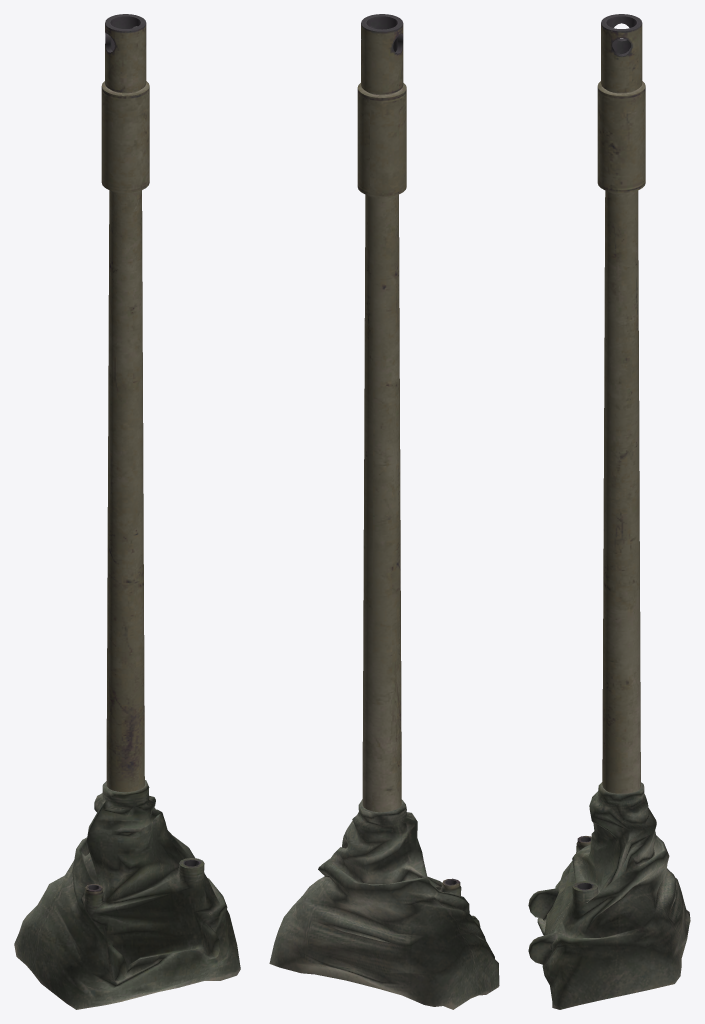
File: Gun_05.glb
3 renders of one model, left to right at view 1: azimuth 30°, elevation 25°; view 2: azimuth 150°, elevation 25°; view 3: azimuth 270°, elevation 25°, orthographic. The views are drawn at different scales.
Visible parts, largest first — view 1: set_0_group_0; view 2: set_0_group_0; view 3: set_0_group_0.
Part boxes in pixels (<box>): set_0_group_0: <box>14,14,240,1009</box>; set_0_group_0: <box>269,14,499,1009</box>; set_0_group_0: <box>528,14,690,1009</box>.
Bounding box in the file's own units: 1.27 × 6.17 × 0.9553.
1 material, 1 textured.
